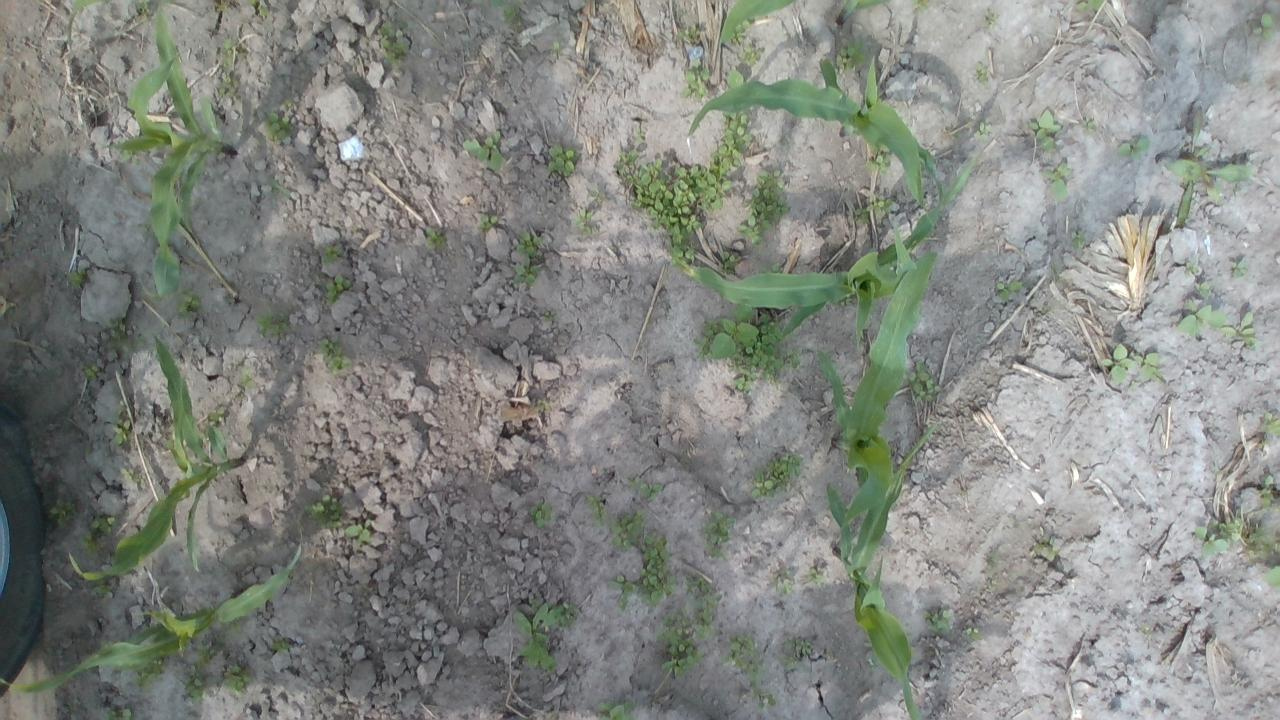Maize: (686, 158, 980, 352), (0, 531, 306, 698), (66, 331, 250, 582), (686, 55, 946, 229), (100, 12, 238, 302), (816, 252, 938, 578), (826, 421, 940, 720), (716, 0, 799, 48), (65, 0, 96, 54), (832, 0, 886, 27)
Weeds: (613, 126, 695, 268), (1162, 105, 1254, 228), (697, 112, 751, 229), (694, 304, 784, 360), (736, 169, 790, 245), (654, 608, 704, 679), (1212, 517, 1280, 563), (514, 602, 558, 672), (1100, 342, 1160, 388), (730, 353, 800, 391), (640, 535, 676, 606), (751, 454, 804, 500), (720, 634, 764, 682), (1177, 300, 1228, 338), (701, 510, 736, 562), (106, 318, 148, 358), (463, 131, 503, 171), (1220, 310, 1260, 350), (610, 507, 645, 550), (377, 22, 409, 68), (1028, 109, 1062, 152), (692, 592, 723, 638), (316, 336, 352, 374), (306, 494, 344, 530), (908, 361, 940, 403), (853, 193, 893, 225), (1041, 162, 1072, 202), (1194, 526, 1230, 560), (779, 636, 812, 672), (681, 59, 709, 101), (608, 575, 638, 612), (836, 39, 868, 73), (50, 498, 80, 530), (548, 144, 576, 177), (179, 665, 203, 703), (224, 665, 252, 696), (258, 312, 292, 336), (1029, 536, 1060, 562), (1258, 412, 1280, 448), (86, 508, 115, 535), (263, 113, 290, 142), (344, 518, 374, 544), (1118, 136, 1150, 160), (1257, 475, 1280, 508), (751, 682, 777, 709), (326, 274, 351, 302), (178, 289, 202, 318), (516, 232, 542, 258), (513, 259, 540, 284), (529, 501, 553, 529), (598, 702, 634, 720), (923, 608, 950, 632), (769, 570, 793, 596), (1252, 12, 1274, 40), (78, 532, 101, 558), (718, 251, 742, 275), (685, 574, 711, 596), (588, 496, 607, 526), (112, 418, 132, 446), (266, 178, 290, 201), (425, 226, 447, 250), (219, 74, 240, 99), (996, 281, 1022, 301), (574, 209, 596, 232), (740, 44, 762, 66), (864, 642, 881, 670), (1228, 256, 1248, 279), (676, 25, 700, 44), (134, 670, 155, 691), (68, 270, 88, 292), (270, 635, 292, 654), (731, 20, 750, 42), (865, 156, 891, 172), (101, 707, 132, 720), (973, 61, 989, 86), (559, 604, 577, 626), (476, 214, 498, 232), (120, 468, 146, 483), (90, 581, 114, 597), (1184, 254, 1200, 278), (973, 121, 992, 140), (196, 646, 216, 664), (1265, 565, 1280, 589), (641, 484, 662, 501), (222, 39, 234, 68), (1070, 230, 1086, 250), (1076, 0, 1104, 11), (208, 406, 227, 422), (322, 246, 338, 264), (760, 262, 784, 274), (728, 70, 744, 88), (966, 627, 984, 643), (806, 568, 822, 585), (504, 6, 518, 25), (148, 658, 164, 674), (84, 363, 98, 380), (986, 10, 999, 28), (1195, 282, 1209, 298), (912, 0, 929, 12), (1040, 304, 1058, 315), (538, 400, 552, 413), (542, 310, 556, 322), (628, 476, 642, 488), (986, 555, 998, 569), (1082, 120, 1094, 133), (554, 41, 564, 56), (117, 400, 127, 415), (589, 190, 605, 199), (1139, 627, 1152, 637), (839, 298, 852, 308), (490, 0, 503, 7), (284, 100, 292, 111), (988, 580, 996, 591), (881, 146, 890, 154)
